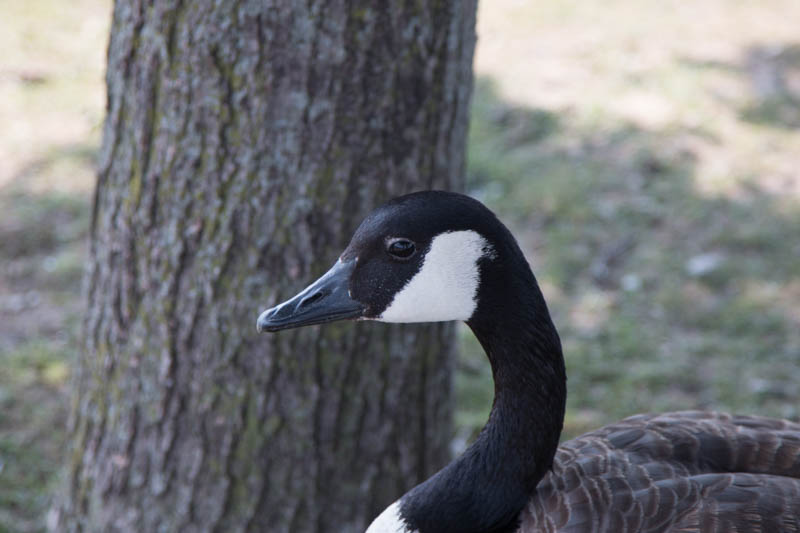goose-head: (254, 189, 540, 332)
